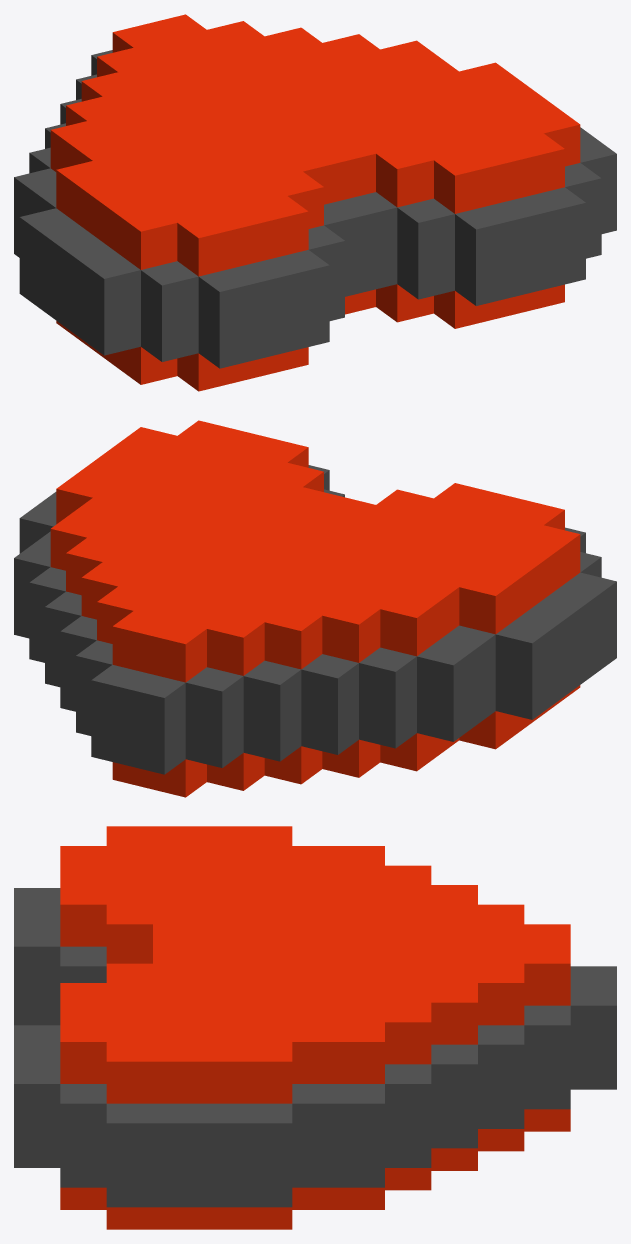
Rendered from heart.obj.
The picture shows the model from 3 angles, top to bottom: view 1: azimuth 30°, elevation 25°; view 2: azimuth 150°, elevation 25°; view 3: azimuth 270°, elevation 25°; orthographic projection. The views are drawn at different scales.
Size of the model in its own units: 14 by 4 by 13.
Materials: 1 (1 with a texture image).
